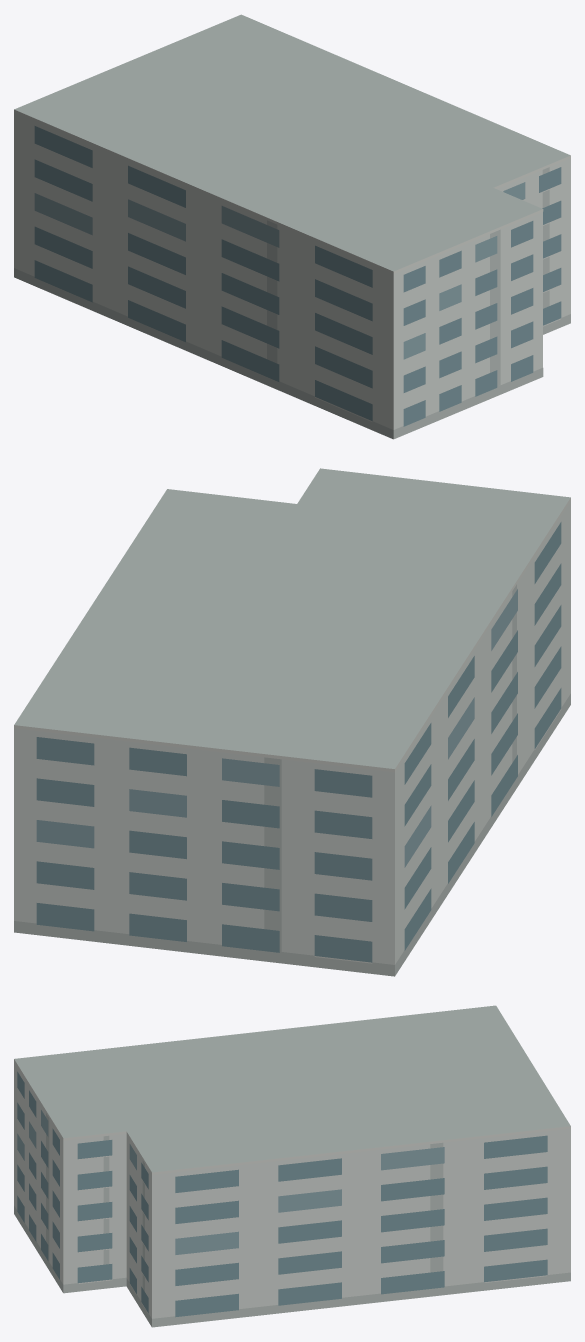
Rendered from residential-9eb4a659-ca73-4d49-bc5f-e8be089144ed.glb.
3 views of the same model, one above another, from view 1: azimuth 30°, elevation 25°; view 2: azimuth 150°, elevation 25°; view 3: azimuth 270°, elevation 25° (orthographic). The views are drawn at different scales.
Visible parts, largest first — view 1: residential-9eb4a659-ca73-4d49-bc5f-e8be089144ed.tmp; view 2: residential-9eb4a659-ca73-4d49-bc5f-e8be089144ed.tmp; view 3: residential-9eb4a659-ca73-4d49-bc5f-e8be089144ed.tmp.
Part boxes in pixels (x1,y1,x2,y2): residential-9eb4a659-ca73-4d49-bc5f-e8be089144ed.tmp: (14, 14, 570, 439); residential-9eb4a659-ca73-4d49-bc5f-e8be089144ed.tmp: (14, 468, 570, 976); residential-9eb4a659-ca73-4d49-bc5f-e8be089144ed.tmp: (14, 1005, 570, 1327).
Size of the model in its own units: 35.24 by 15.25 by 49.66.
